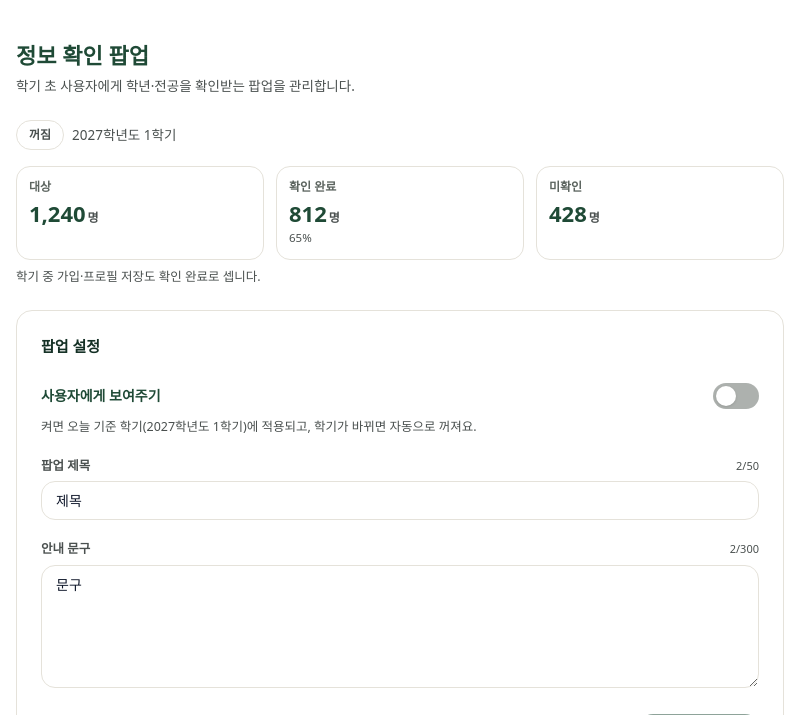
Test: AdminProfileCheckPage — 설정 저장 › 스위치 행의 글자를 눌러도 노출 여부가 바뀐다
Click the text "사용자에게 보여주기".
click(101, 396)  # box [41,385,161,406]
(page scrolled)
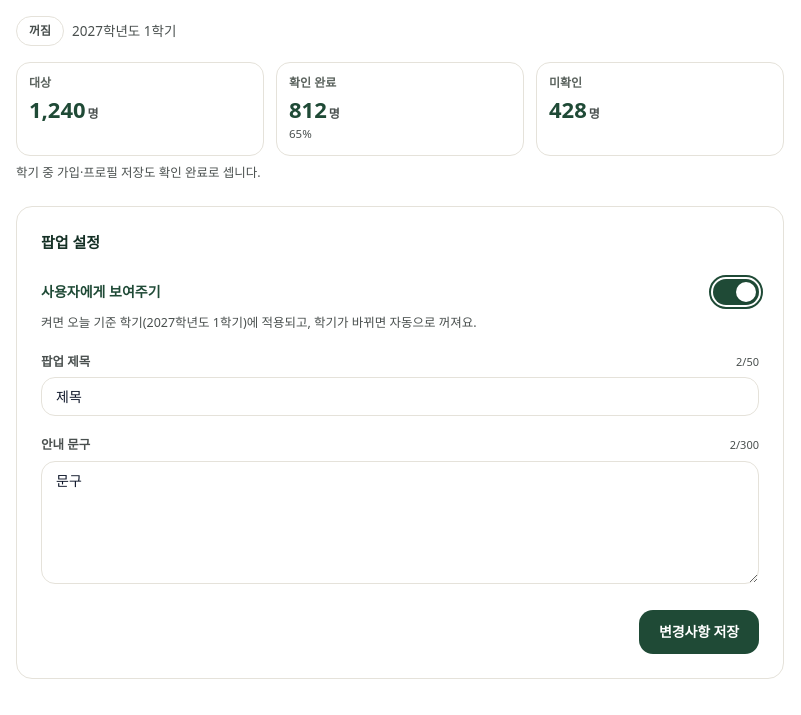
Expected: the button "변경사항 저장" is enabled, [639,610,759,654]
